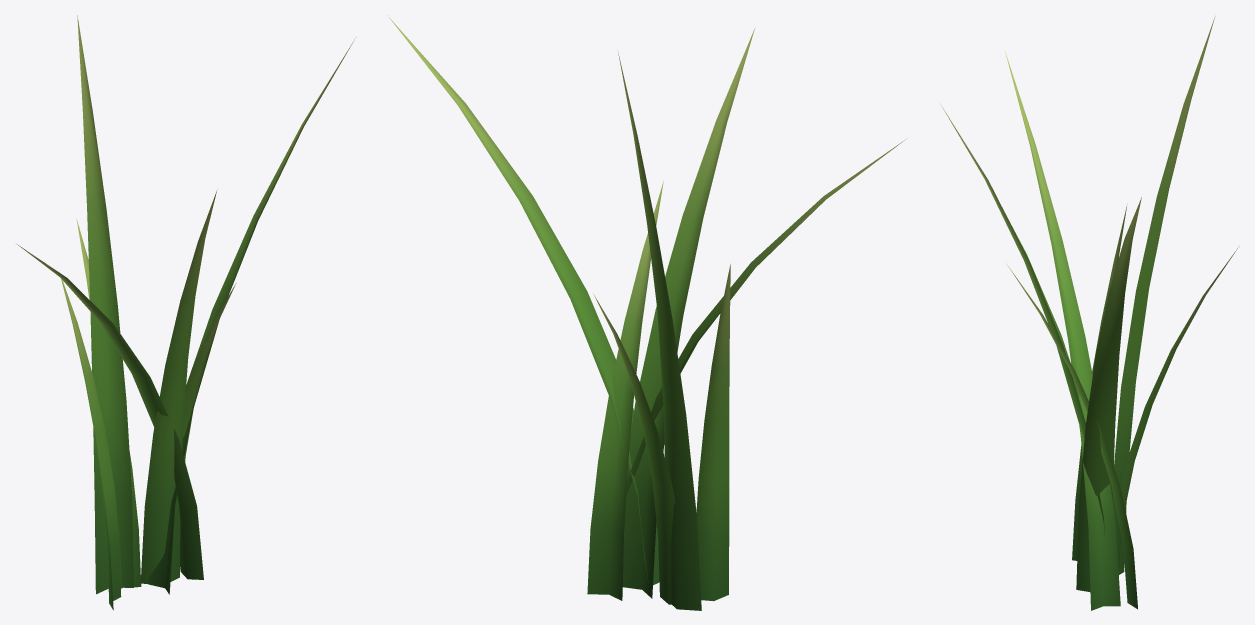
File: Grass_A.fbx
The picture shows the model from 3 angles, left to right: view 1: azimuth 30°, elevation 25°; view 2: azimuth 150°, elevation 25°; view 3: azimuth 270°, elevation 25°; orthographic projection. The views are drawn at different scales.
Parts seen in each view (by area): view 1: Grass_A; view 2: Grass_A; view 3: Grass_A.
Boxes of the visible parts, box(x1,y1,x2,y2) form: Grass_A: box(17, 15, 354, 610); Grass_A: box(387, 15, 905, 610); Grass_A: box(940, 16, 1238, 610).
Size of the model in its own units: 3.77 by 4.75 by 2.31.
